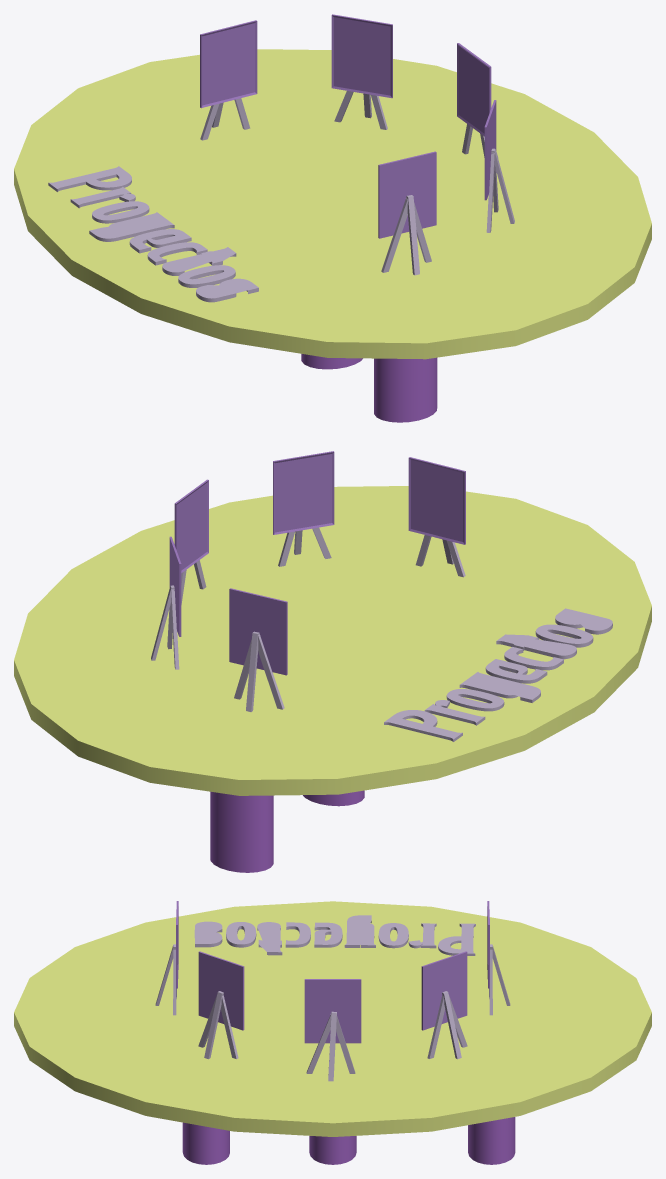
The model's file is proyectos2.0.fbx.
3 renders of one model, top to bottom at view 1: azimuth 30°, elevation 25°; view 2: azimuth 150°, elevation 25°; view 3: azimuth 270°, elevation 25°, orthographic. The views are drawn at different scales.
Visible parts, largest first — view 1: pCylinder1, typeMesh1, pasted__pasted__pCube1, pasted__pCube1, pasted__pCylinder2, pCube1, pasted__pasted__pasted__pasted__pCube1 (×2), pasted__pasted__pasted__pCube1 (×2), pCylinder2, pasted__pasted__pasted__pasted__pasted__pCube1; view 2: pCylinder1, typeMesh1, pasted__pasted__pCube1, pasted__pCube1, pasted__pCylinder2, pCube1, pasted__pasted__pasted__pasted__pCube1 (×2), pasted__pasted__pasted__pCube1 (×2), pCylinder2, pasted__pasted__pasted__pasted__pasted__pCube1; view 3: pCylinder1, typeMesh1, pasted__pCube1, pasted__pCylinder2 (×2), pCube1, pasted__pasted__pasted__pCube1 (×2), pasted__pasted__pasted__pasted__pCube1 (×2), pCylinder2, pasted__pasted__pCube1 (×2), pasted__pasted__pasted__pasted__pasted__pCube1.
Boxes of the visible parts, box(x1,y1,x2,y2) form: pCylinder1: box(14, 49, 651, 359); typeMesh1: box(48, 166, 258, 302); pasted__pasted__pCube1: box(200, 20, 436, 238); pasted__pCube1: box(331, 14, 496, 200); pasted__pCylinder2: box(374, 357, 437, 422); pCube1: box(457, 43, 491, 136); pasted__pasted__pasted__pasted__pCube1 (×2): box(200, 102, 419, 275); pasted__pasted__pasted__pCube1 (×2): box(334, 91, 514, 232); pCylinder2: box(301, 354, 362, 369); pasted__pasted__pasted__pasted__pasted__pCube1: box(234, 98, 431, 262); pCylinder1: box(14, 486, 651, 795); typeMesh1: box(384, 608, 612, 741); pasted__pasted__pCube1: box(229, 457, 465, 675); pasted__pCube1: box(169, 451, 334, 636); pasted__pCylinder2: box(210, 791, 273, 872); pCube1: box(174, 479, 208, 572); pasted__pasted__pasted__pasted__pCube1 (×2): box(246, 539, 465, 711); pasted__pasted__pasted__pCube1 (×2): box(151, 527, 331, 669); pCylinder2: box(303, 790, 364, 806); pasted__pasted__pasted__pasted__pasted__pCube1: box(234, 535, 431, 699); pCylinder1: box(14, 901, 651, 1136); typeMesh1: box(194, 915, 475, 955); pasted__pCube1: box(198, 951, 467, 1030); pasted__pCylinder2 (×2): box(182, 1117, 515, 1164); pCube1: box(304, 979, 361, 1043); pasted__pasted__pasted__pCube1 (×2): box(198, 991, 467, 1059); pasted__pasted__pasted__pasted__pCube1 (×2): box(155, 944, 510, 1058); pCylinder2: box(309, 1136, 356, 1164); pasted__pasted__pCube1 (×2): box(176, 901, 489, 1081); pasted__pasted__pasted__pasted__pasted__pCube1: box(173, 949, 492, 1015).
Bounding box in the file's own units: 7.48 × 3.66 × 9.09.
